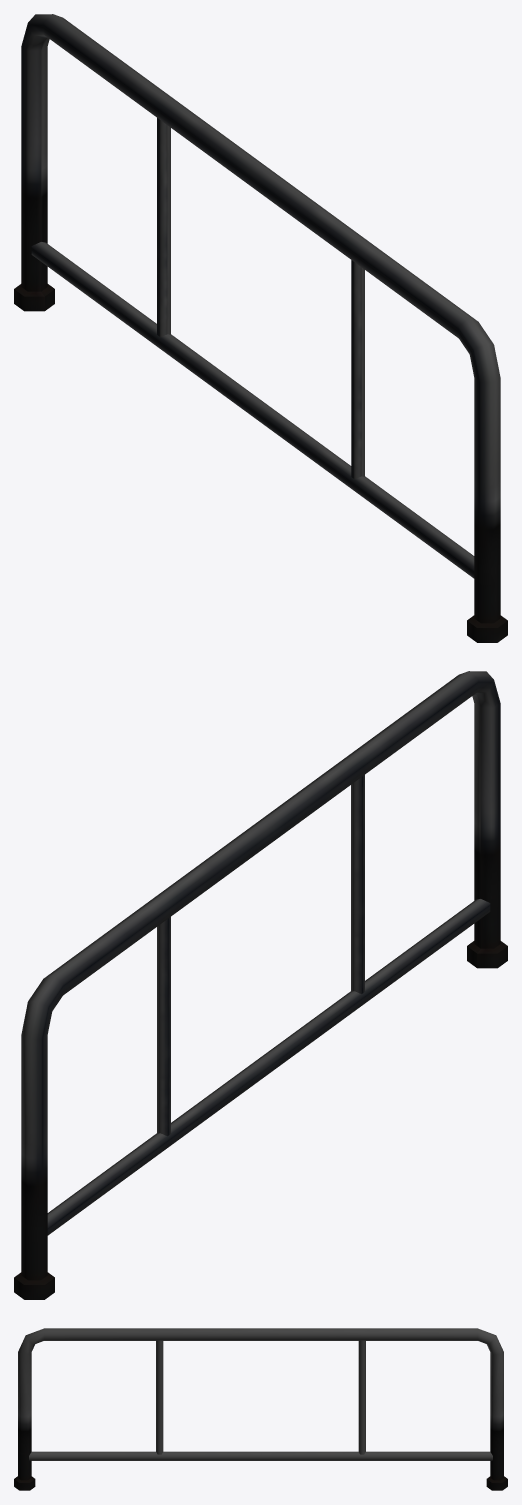
File: Railing_04.FBX
The picture shows the model from 3 angles, top to bottom: view 1: azimuth 30°, elevation 25°; view 2: azimuth 150°, elevation 25°; view 3: azimuth 270°, elevation 25°; orthographic projection. The views are drawn at different scales.
Visible parts, largest first — view 1: Railing_04; view 2: Railing_04; view 3: Railing_04.
Part boxes in pixels (left/top/right/bottom): Railing_04: left=14, top=14, right=507, bottom=642; Railing_04: left=14, top=671, right=507, bottom=1299; Railing_04: left=14, top=1328, right=507, bottom=1490.
Size of the model in its own units: 10.85 by 102 by 289.
